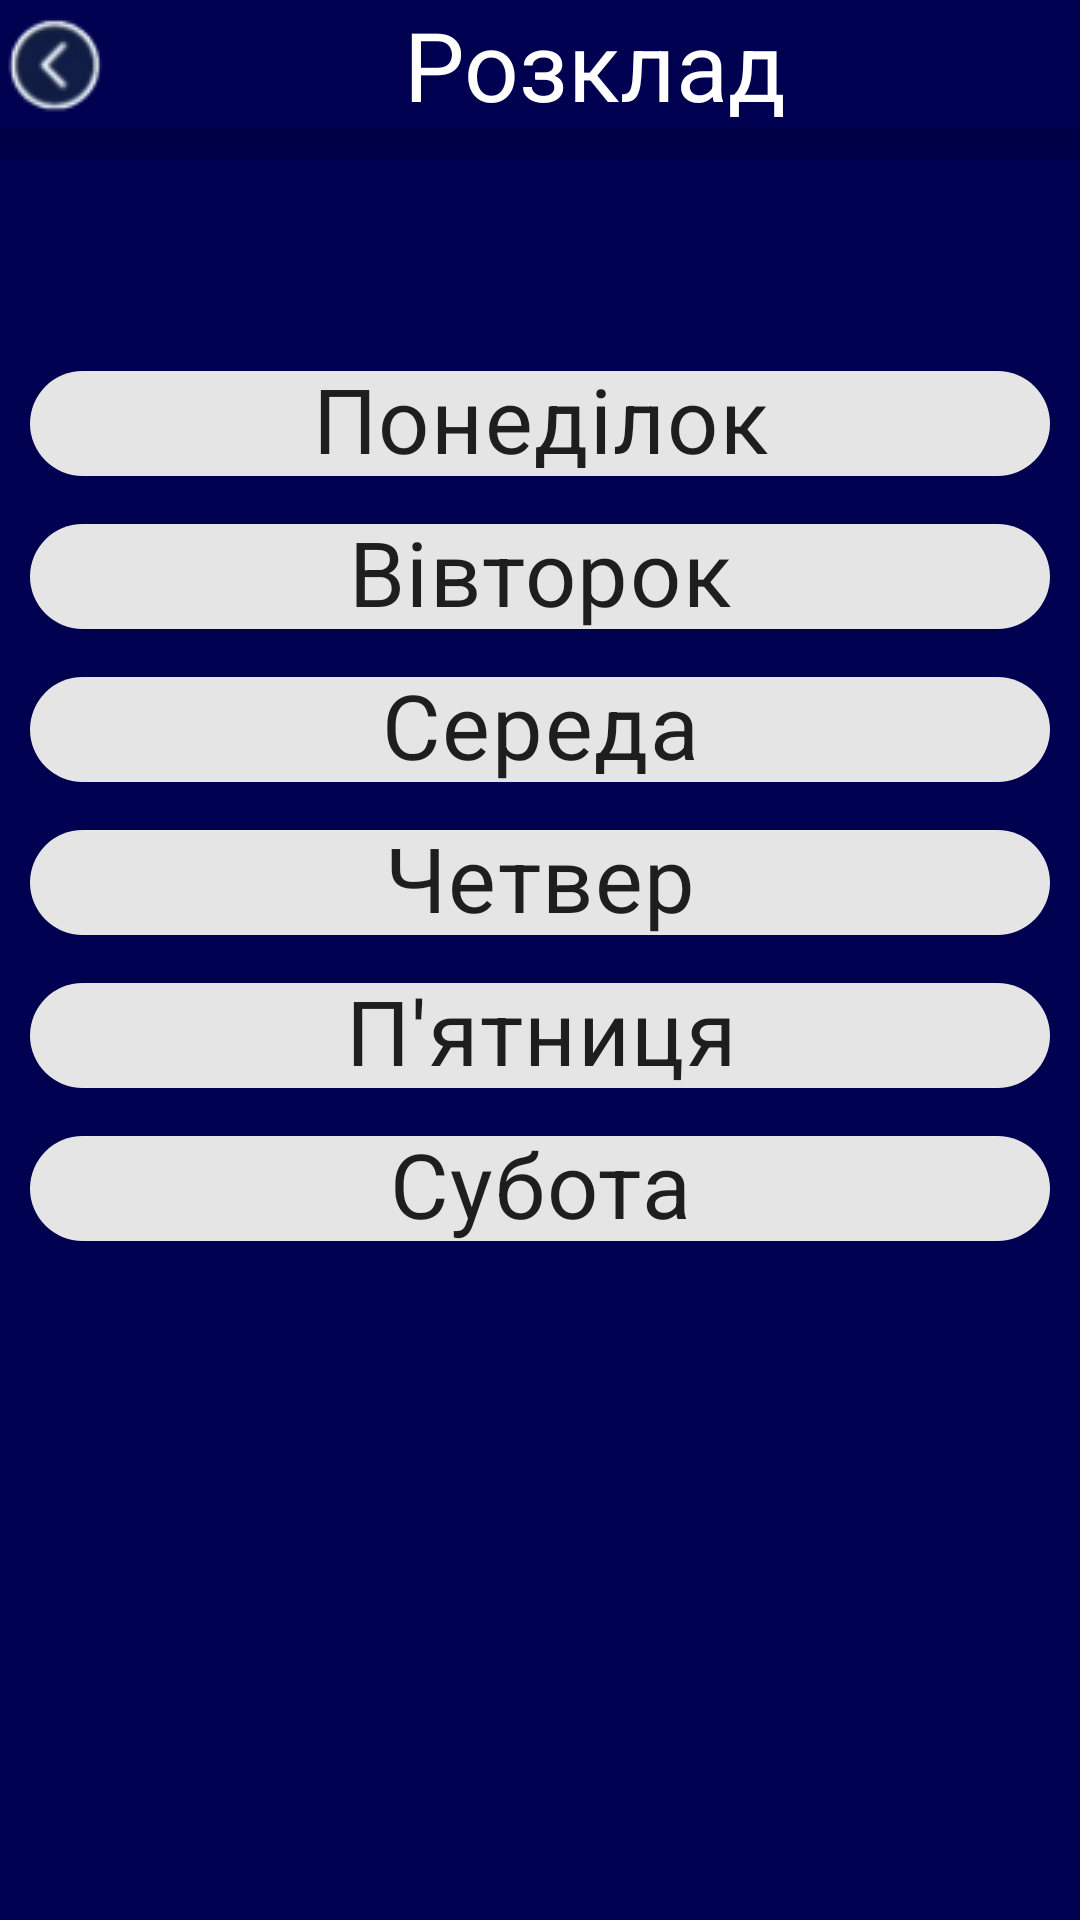

Where icons sit on this 1080px×1920px app screen, as (x1, y1, x2, y2):
backbutton: (9, 20, 101, 111)
